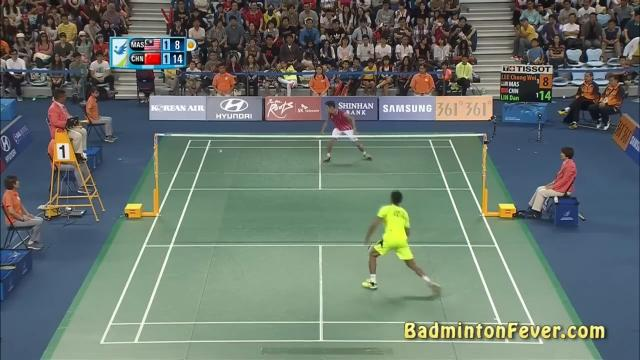Shuttlecock: (217, 148, 226, 154)
